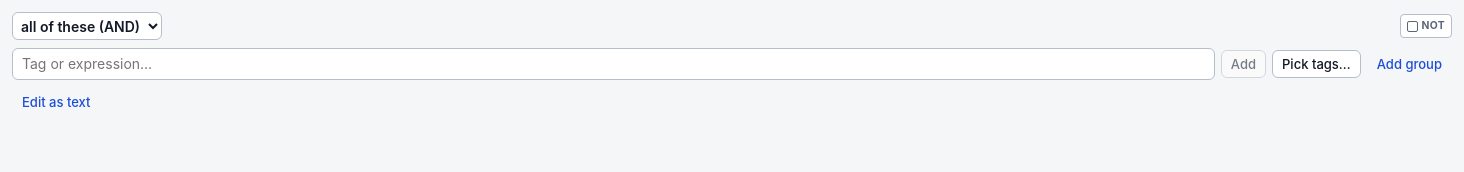
the add field speaks the filter's grammar › says that operators are capitals when one is typed small
Type "Payments and Smoke" into the field named "Add a tag or pattern" at (613, 64), box [12,48,1215,80]
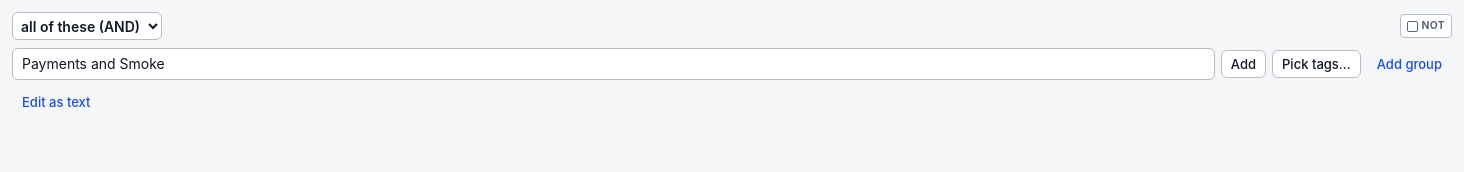
Submit the form named "Add a tag or pattern", box [12,48,1452,80]
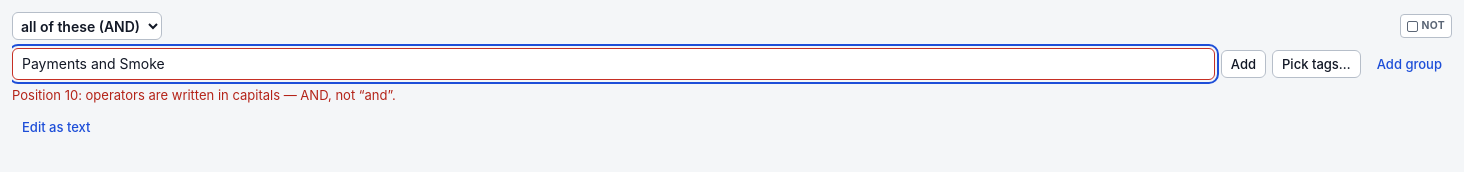
Result: the message reads "Position 10: operators are written in capitals — AND, not “and”." at [12,87,396,103]
